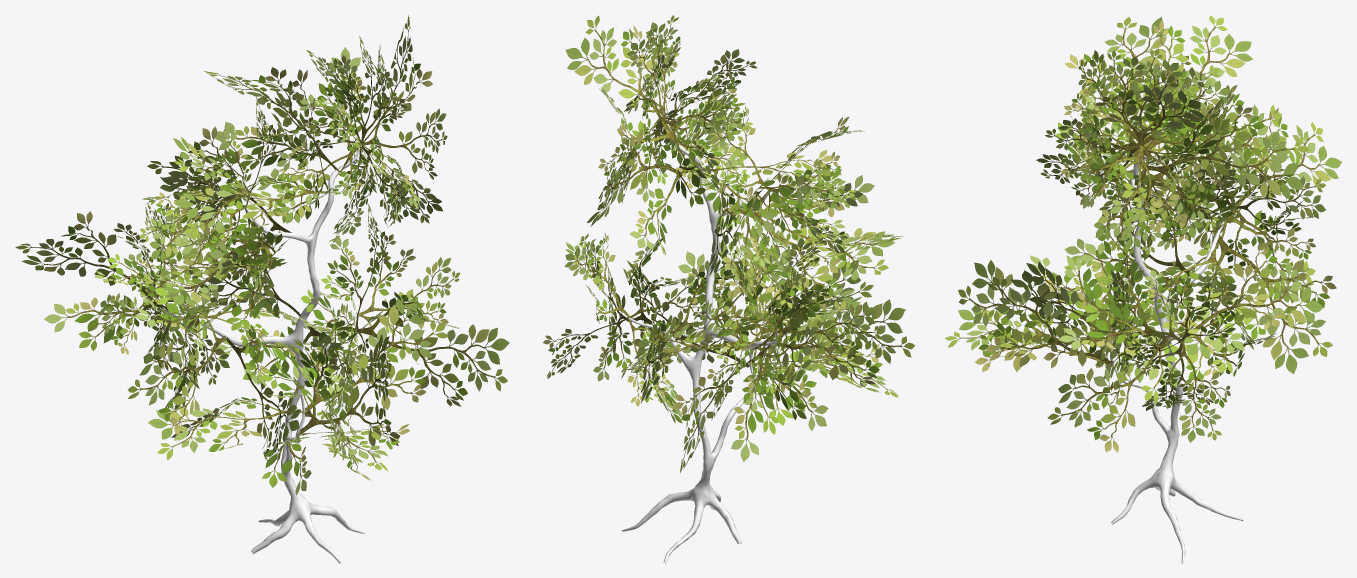
The model's file is Tree_3_4.fbx.
The picture shows the model from 3 angles, left to right: view 1: azimuth 30°, elevation 25°; view 2: azimuth 150°, elevation 25°; view 3: azimuth 270°, elevation 25°; orthographic projection. The views are drawn at different scales.
Visible parts, largest first — view 1: Tree_3_4_LOD0; view 2: Tree_3_4_LOD0; view 3: Tree_3_4_LOD0.
Boxes of the visible parts, box(x1,y1,x2,y2) form: Tree_3_4_LOD0: box(15, 15, 509, 563); Tree_3_4_LOD0: box(543, 15, 914, 563); Tree_3_4_LOD0: box(945, 15, 1341, 563).
Size of what is drawn, in the model's own units: 340 by 461 by 325.
